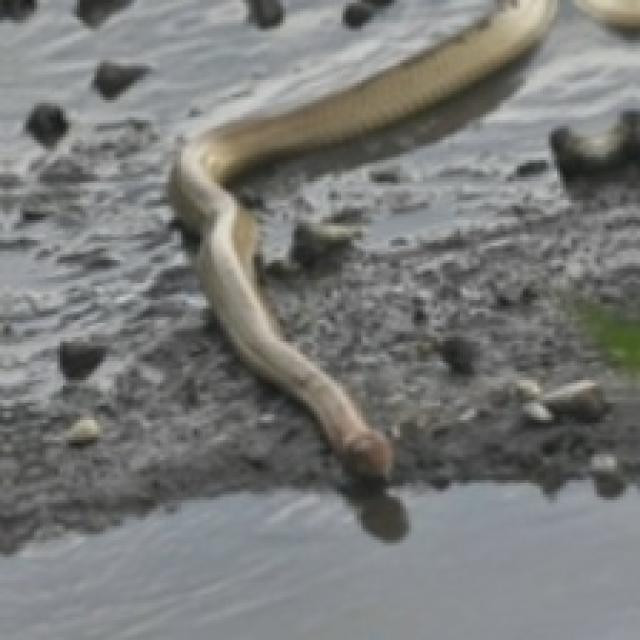king cobra: (171, 0, 554, 477)
